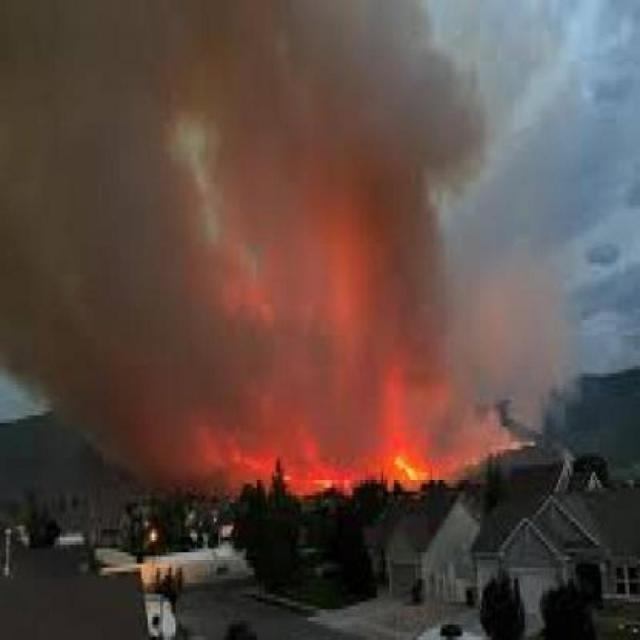Fire: (209, 406, 446, 504)
Smoke: (4, 240, 196, 454)
